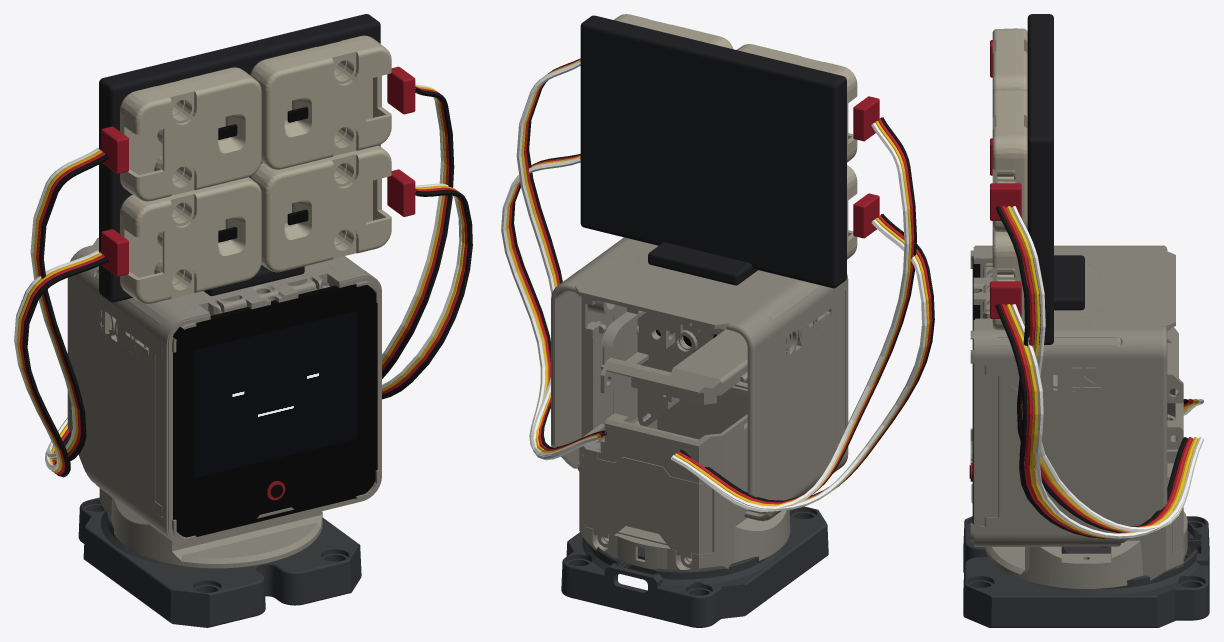
File: stackchan.glb
3 renders of one model, left to right at view 1: azimuth 30°, elevation 25°; view 2: azimuth 150°, elevation 25°; view 3: azimuth 270°, elevation 25°, orthographic. The views are drawn at different scales.
Visible parts, largest first — view 1: StackChan-MainBody, face, screen, StackChan-Base, tof0, tof1, tof2, tof3, bracket, StackChan-ServoBody, CoreS3, cable0k (+20 smaller); view 2: bracket, StackChan-MainBody, StackChan-ServoBody, StackChan-Base, CoreS3, StackChan-ServoSideCover, StackChan-ServoCover, cable0w, bracketfoot, cable2w, cable1w, cable3w (+17 smaller); view 3: StackChan-MainBody, StackChan-Base, StackChan-ServoBody, CoreS3, bracket, tof1, cable3w, tof0, cable1w, cable3r, cable3y, cable3k (+10 smaller).
Boxes of the visible parts, x1,y1,x2,y2 form: StackChan-MainBody: (67, 237, 381, 544); face: (172, 284, 377, 537); screen: (194, 311, 356, 477); StackChan-Base: (78, 497, 361, 627); tof0: (120, 67, 261, 201); tof1: (250, 35, 391, 169); tof2: (120, 177, 261, 303); tof3: (250, 145, 391, 272); bracket: (99, 14, 380, 302); StackChan-ServoBody: (99, 488, 322, 568); CoreS3: (95, 256, 372, 528); cable0k: (39, 154, 109, 462); bracket: (580, 15, 846, 288); StackChan-MainBody: (551, 237, 848, 516); StackChan-ServoBody: (579, 369, 790, 572); StackChan-Base: (561, 506, 828, 627); CoreS3: (577, 237, 842, 521); StackChan-ServoSideCover: (582, 446, 712, 567); StackChan-ServoCover: (600, 316, 747, 404); cable0w: (671, 123, 909, 512); bracketfoot: (648, 242, 757, 285); cable2w: (671, 219, 926, 511); cable1w: (516, 60, 598, 460); cable3w: (501, 157, 598, 456); StackChan-MainBody: (970, 245, 1175, 546); StackChan-Base: (963, 516, 1209, 627); StackChan-ServoBody: (985, 378, 1187, 588); CoreS3: (983, 247, 1121, 546); bracket: (1027, 14, 1053, 344); tof1: (992, 89, 1027, 232); cable3w: (1011, 304, 1203, 538); tof0: (992, 28, 1027, 92); cable1w: (1011, 206, 1203, 532); cable3r: (1000, 304, 1192, 538); cable3y: (1006, 304, 1198, 538); cable3k: (995, 304, 1187, 538).
Bounding box in the file's own units: 0.1129 × 0.1274 × 0.056.
Materials: 12 (1 with a texture image).
